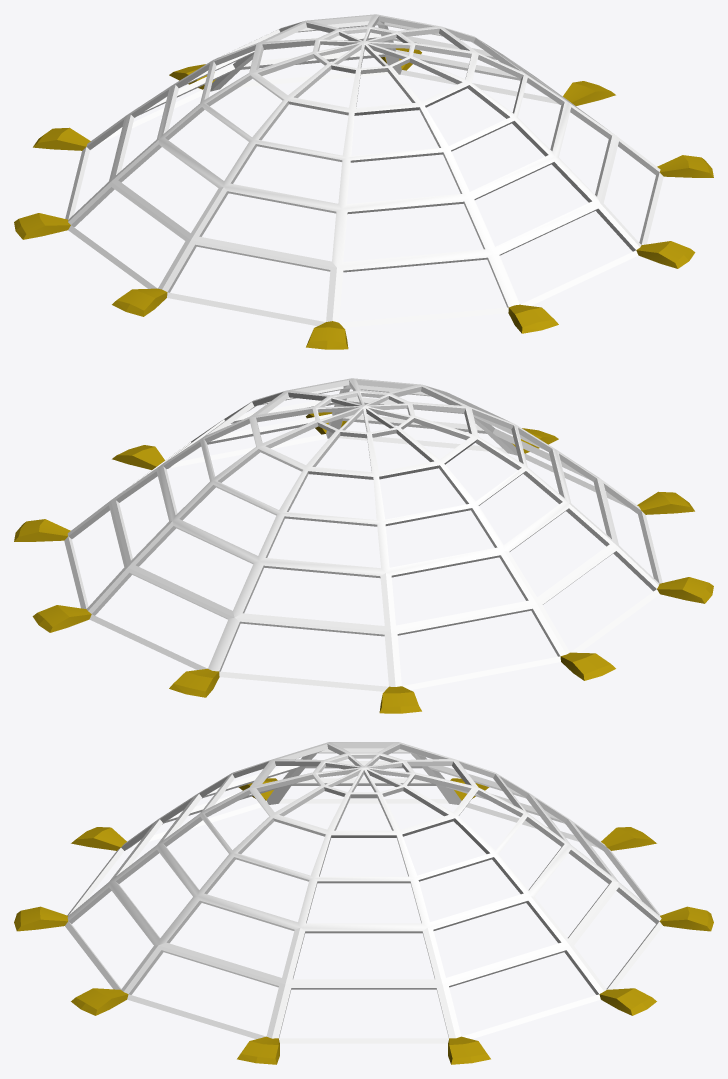
The model's file is CaptureNet.fbx.
The picture shows the model from 3 angles, top to bottom: view 1: azimuth 30°, elevation 25°; view 2: azimuth 150°, elevation 25°; view 3: azimuth 270°, elevation 25°; orthographic projection.
Visible parts, largest first — view 1: CaptureNet; view 2: CaptureNet; view 3: CaptureNet.
Part boxes in pixels (x1,y1,x2,y2): CaptureNet: (14, 14, 713, 349); CaptureNet: (14, 378, 713, 713); CaptureNet: (14, 742, 713, 1064).
Bounding box in the file's own units: 3.94 × 1 × 4.1.
1 material, 1 textured.
